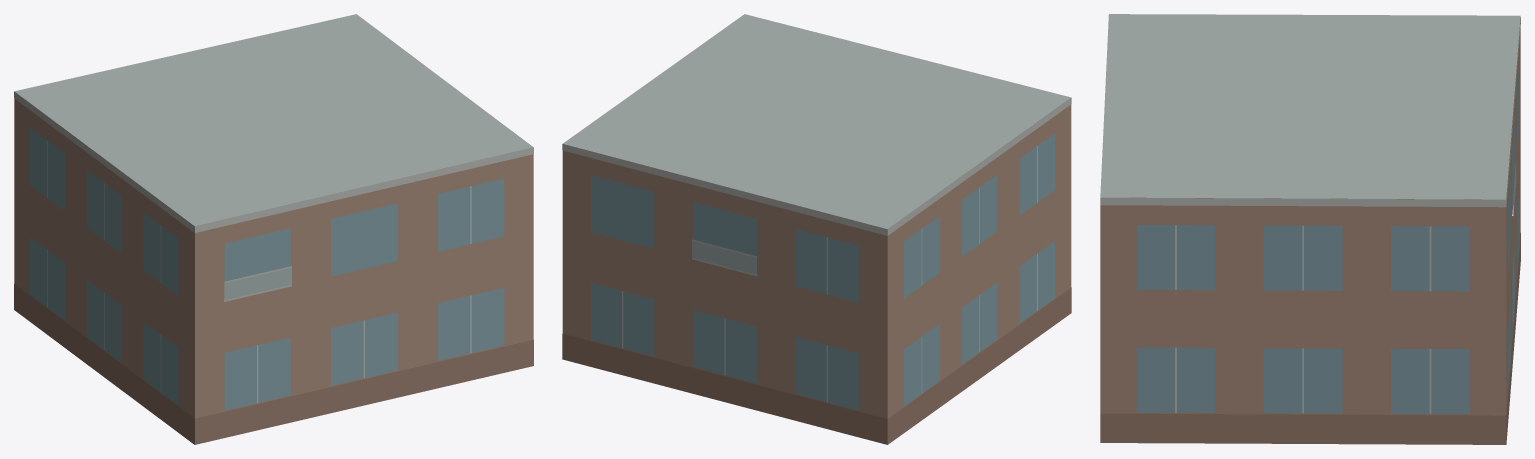
The model's file is survey-upis-32760663.glb.
3 renders of one model, left to right at view 1: azimuth 30°, elevation 25°; view 2: azimuth 150°, elevation 25°; view 3: azimuth 270°, elevation 25°, orthographic. The views are drawn at different scales.
Parts seen in each view (by area): view 1: survey-upis-32760663.tmp; view 2: survey-upis-32760663.tmp; view 3: survey-upis-32760663.tmp.
Part boxes in pixels (x1,y1,x2,y2): survey-upis-32760663.tmp: [14, 14, 533, 444]; survey-upis-32760663.tmp: [562, 14, 1071, 444]; survey-upis-32760663.tmp: [1100, 14, 1520, 444].
Size of the model in its own units: 12.75 by 7.85 by 12.21.
